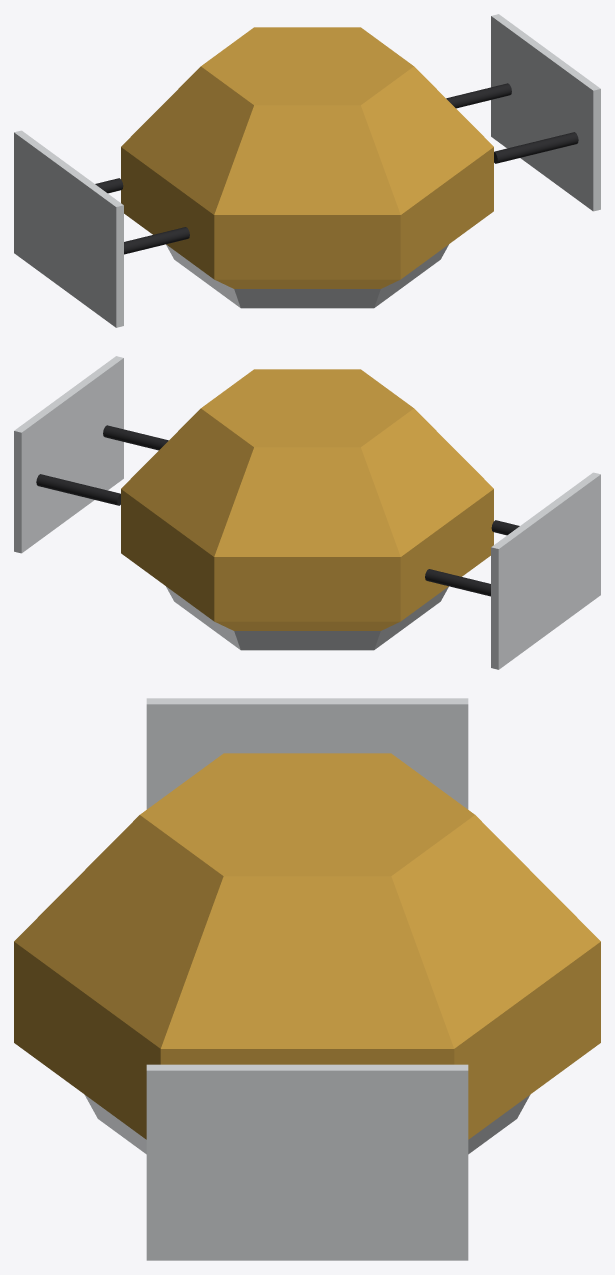
File: r1_transceiver.obj
3 views of the same model, one above another, from view 1: azimuth 30°, elevation 25°; view 2: azimuth 150°, elevation 25°; view 3: azimuth 270°, elevation 25° (orthographic). The views are drawn at different scales.
Visible parts, largest first — view 1: r1_transceiver; view 2: r1_transceiver; view 3: r1_transceiver.
Part boxes in pixels (x1,y1,x2,y2): r1_transceiver: (14,14,600,327); r1_transceiver: (14,356,600,669); r1_transceiver: (14,698,600,1260).
Size of the model in its own units: 1.26 by 0.48 by 0.84.
